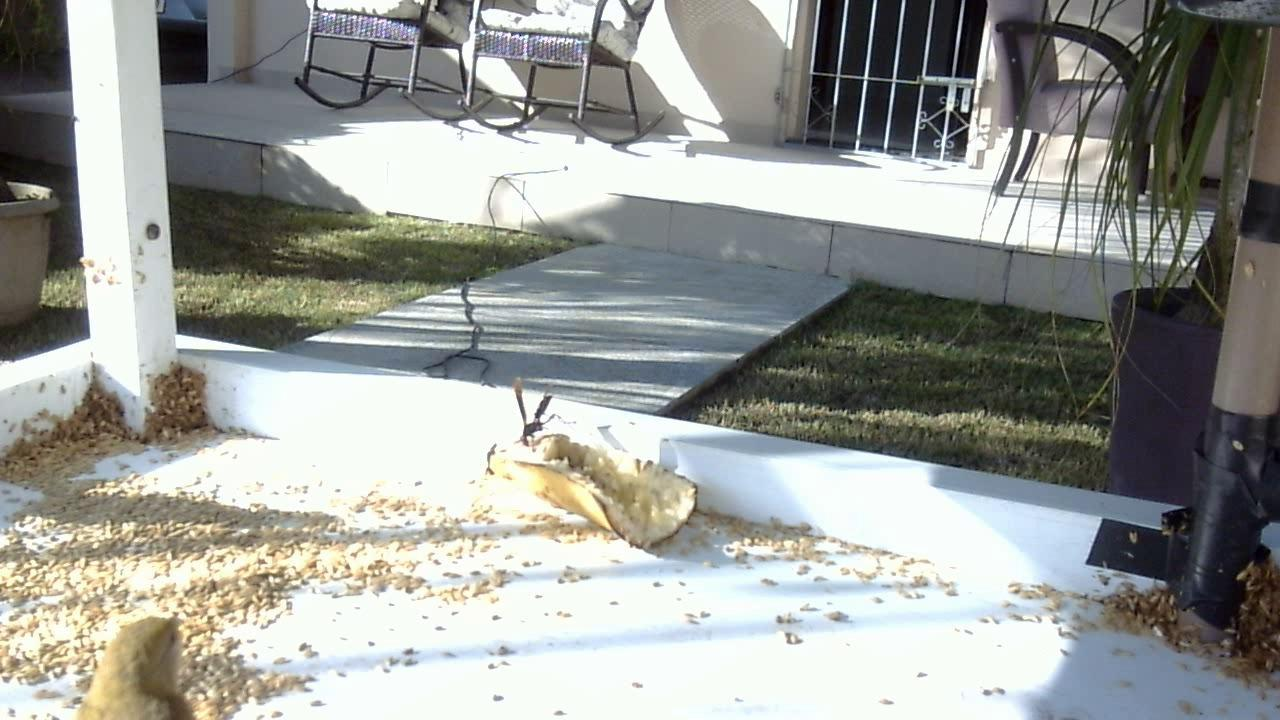canario_do_amazonas: (70, 609, 203, 718)
